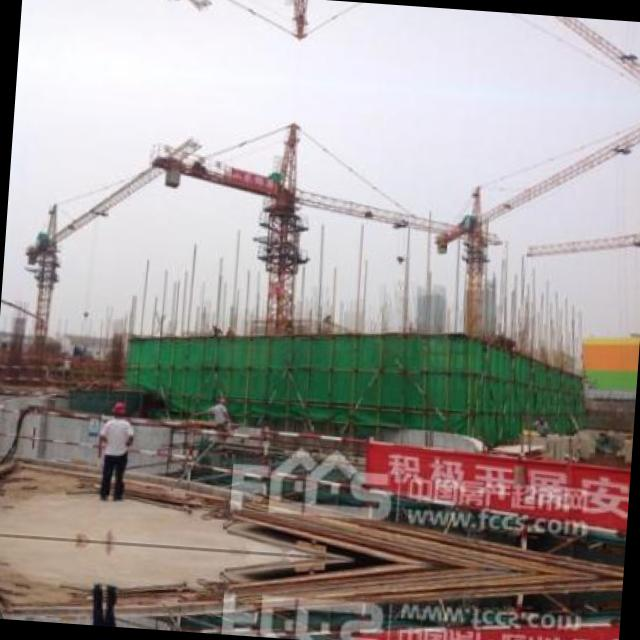helmet: (110, 399, 126, 420)
